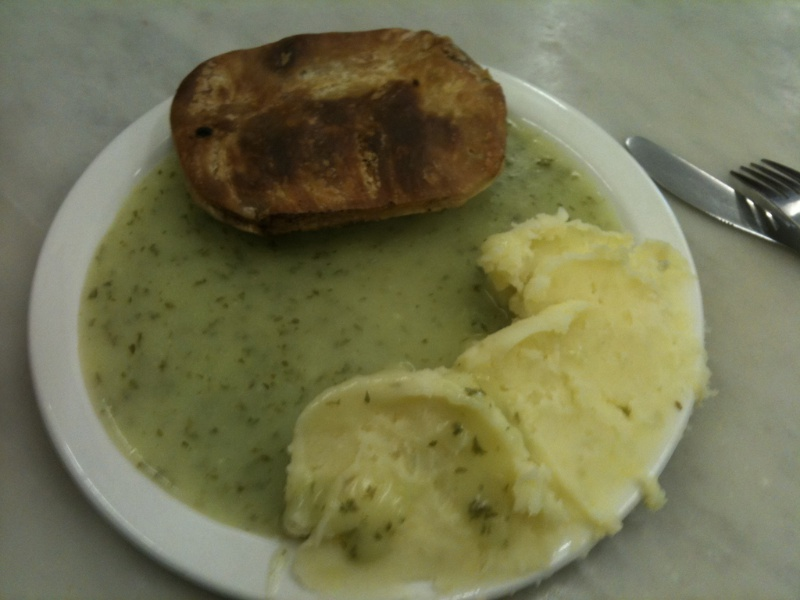knife: (622, 127, 800, 253)
